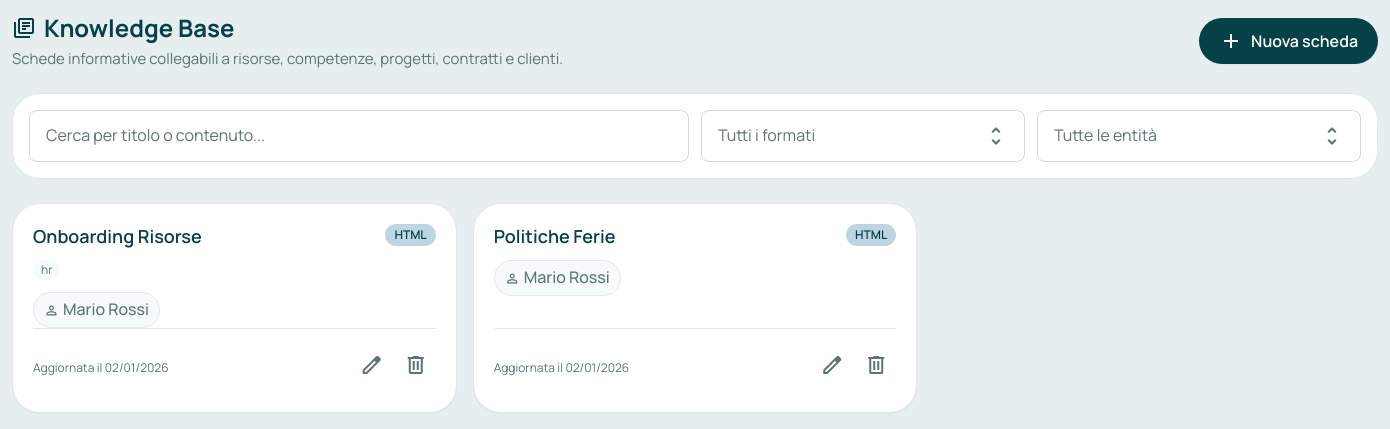
KnowledgeBasePage - lista e ricerca › filtra le schede tramite la ricerca testuale
The image size is (1390, 429).
Type "ferie" into the field with placeholder "Cerca per titolo o contenuto...".
click(359, 136); type("ferie")  # box [29,110,689,162]
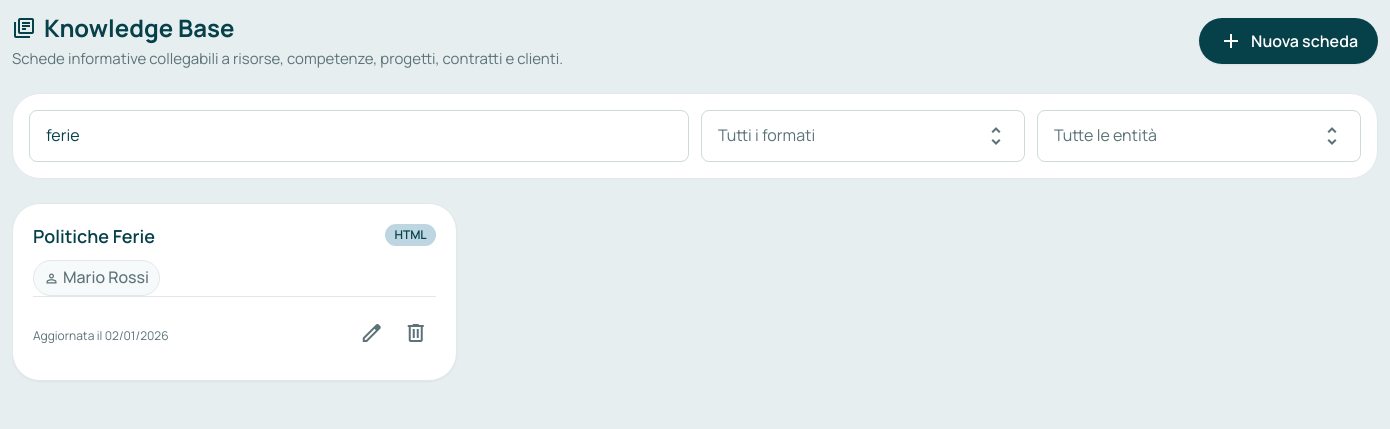
Expected: the heading "Politiche Ferie" is shown, [33,224,155,248]
Result: the heading "Onboarding Risorse" is gone
